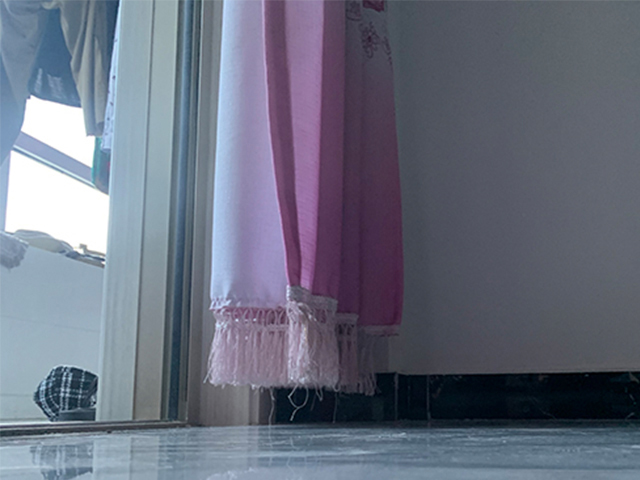curtain: (205, 1, 405, 397)
